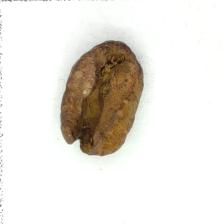NG: (74, 58, 120, 153)
